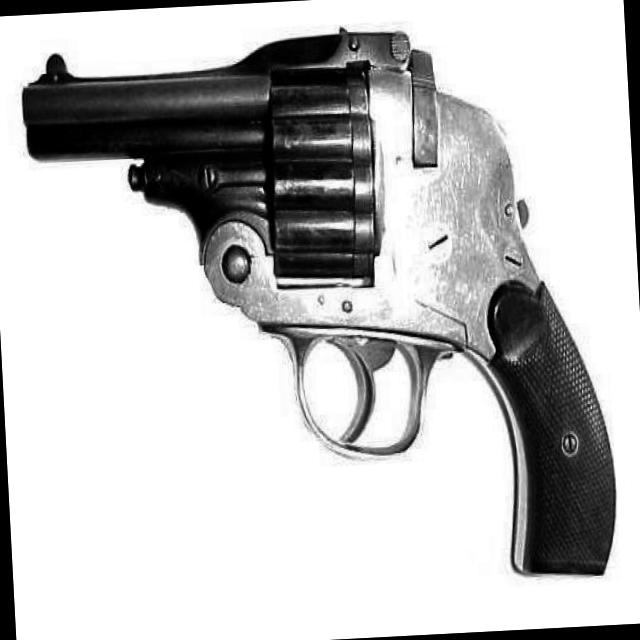gun: (18, 13, 620, 604)
